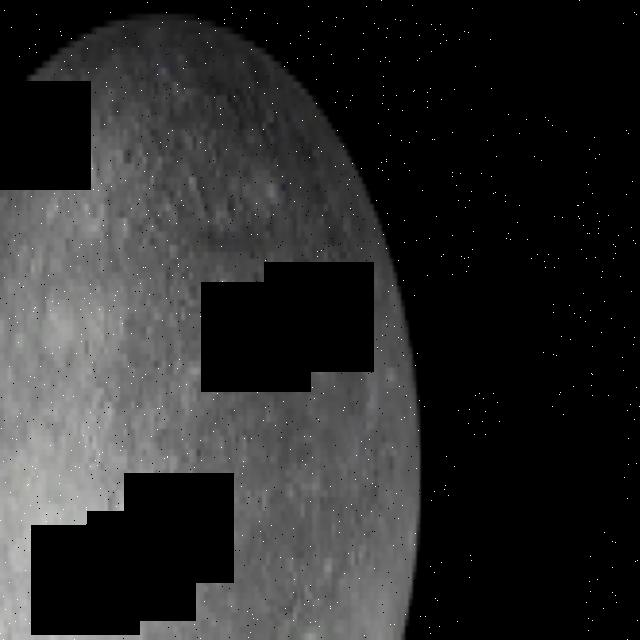Mercury: (0, 14, 420, 640)
